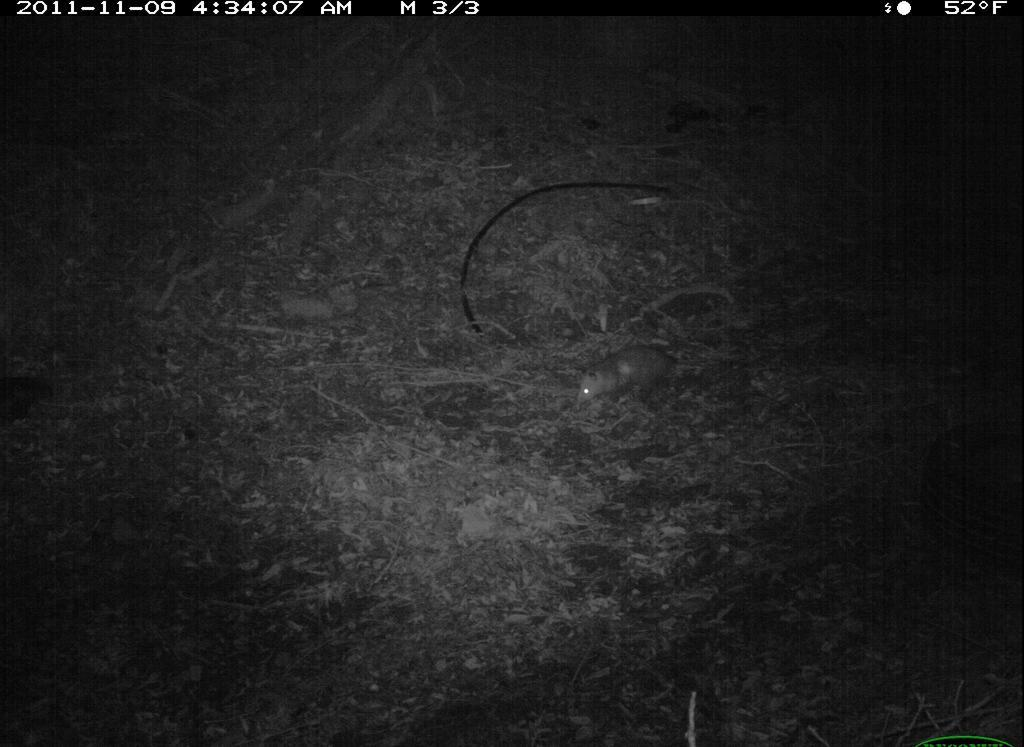opossum: (561, 335, 706, 419)
